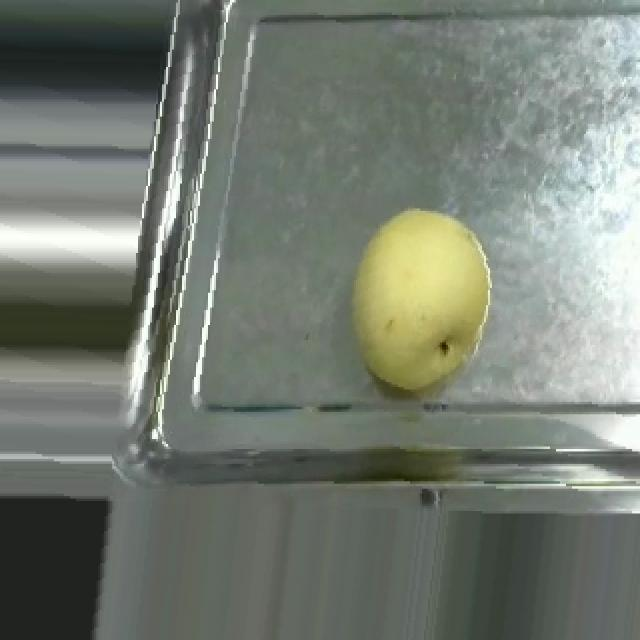Fruit: (336, 193, 502, 397)
